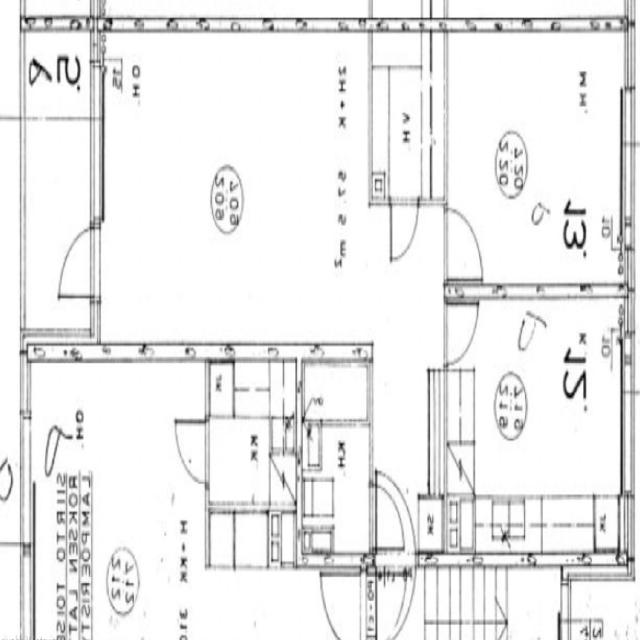door: (376, 472, 416, 566), (376, 553, 416, 640), (58, 229, 100, 298), (444, 209, 482, 280), (444, 304, 479, 366), (369, 486, 403, 548), (391, 198, 419, 262)
